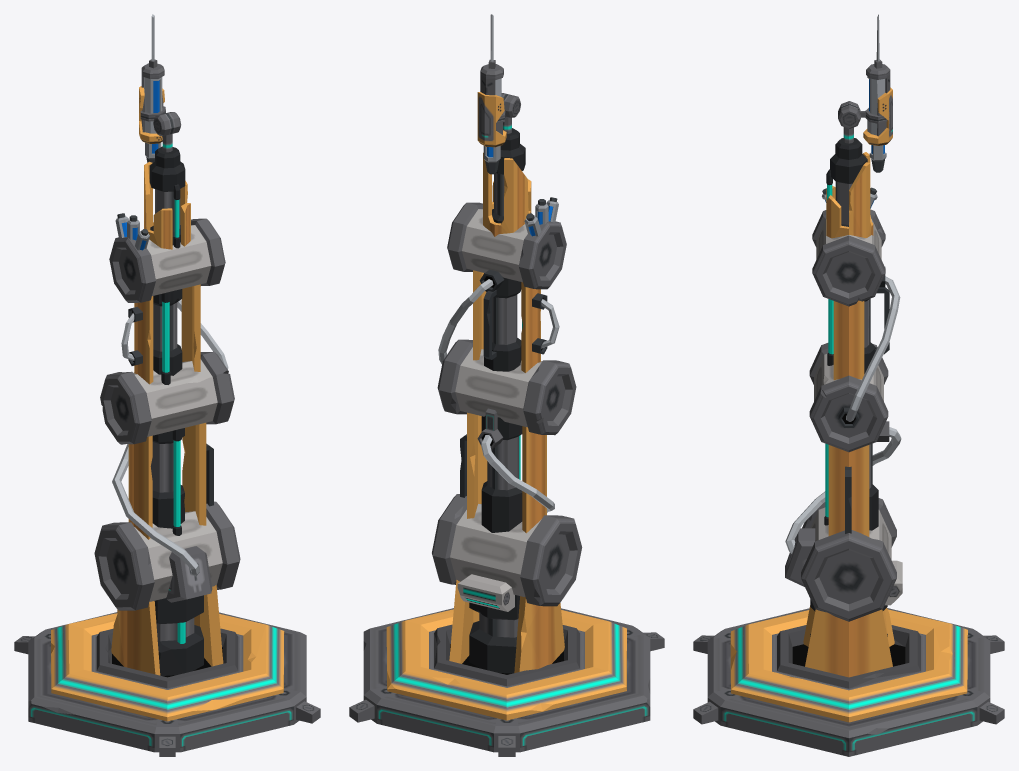
File: SM_Prop_Robotic_Needle_Arm_01.fbx
3 renders of one model, left to right at view 1: azimuth 30°, elevation 25°; view 2: azimuth 150°, elevation 25°; view 3: azimuth 270°, elevation 25°, orthographic. The views are drawn at different scales.
Parts seen in each view (by area): view 1: SM_Prop_Robotic_Needle_Arm_01, SM_Prop_Robotic_Needle_Arm_01_Arm_01, SM_Prop_Robotic_Needle_Arm_01_Arm_02, SM_Prop_Robotic_Needle_Arm_01_Arm_03, SM_Prop_Robotic_Needle_Arm_01_Needle_01; view 2: SM_Prop_Robotic_Needle_Arm_01, SM_Prop_Robotic_Needle_Arm_01_Arm_01, SM_Prop_Robotic_Needle_Arm_01_Arm_02, SM_Prop_Robotic_Needle_Arm_01_Arm_03, SM_Prop_Robotic_Needle_Arm_01_Needle_01; view 3: SM_Prop_Robotic_Needle_Arm_01, SM_Prop_Robotic_Needle_Arm_01_Arm_01, SM_Prop_Robotic_Needle_Arm_01_Arm_02, SM_Prop_Robotic_Needle_Arm_01_Arm_03, SM_Prop_Robotic_Needle_Arm_01_Needle_01.
Part boxes in pixels (x1,y1,x2,y2): SM_Prop_Robotic_Needle_Arm_01: [14, 585, 320, 756]; SM_Prop_Robotic_Needle_Arm_01_Arm_01: [94, 422, 240, 610]; SM_Prop_Robotic_Needle_Arm_01_Arm_02: [100, 284, 234, 444]; SM_Prop_Robotic_Needle_Arm_01_Arm_03: [109, 134, 225, 302]; SM_Prop_Robotic_Needle_Arm_01_Needle_01: [139, 14, 181, 162]; SM_Prop_Robotic_Needle_Arm_01: [349, 574, 664, 756]; SM_Prop_Robotic_Needle_Arm_01_Arm_01: [432, 408, 582, 606]; SM_Prop_Robotic_Needle_Arm_01_Arm_02: [437, 269, 576, 435]; SM_Prop_Robotic_Needle_Arm_01_Arm_03: [447, 116, 566, 289]; SM_Prop_Robotic_Needle_Arm_01_Needle_01: [477, 14, 520, 174]; SM_Prop_Robotic_Needle_Arm_01: [693, 560, 1004, 756]; SM_Prop_Robotic_Needle_Arm_01_Arm_01: [785, 421, 901, 621]; SM_Prop_Robotic_Needle_Arm_01_Arm_02: [809, 267, 900, 452]; SM_Prop_Robotic_Needle_Arm_01_Arm_03: [812, 127, 885, 306]; SM_Prop_Robotic_Needle_Arm_01_Needle_01: [838, 14, 892, 172].
Bounding box in the file's own units: 140 × 318 × 133.
